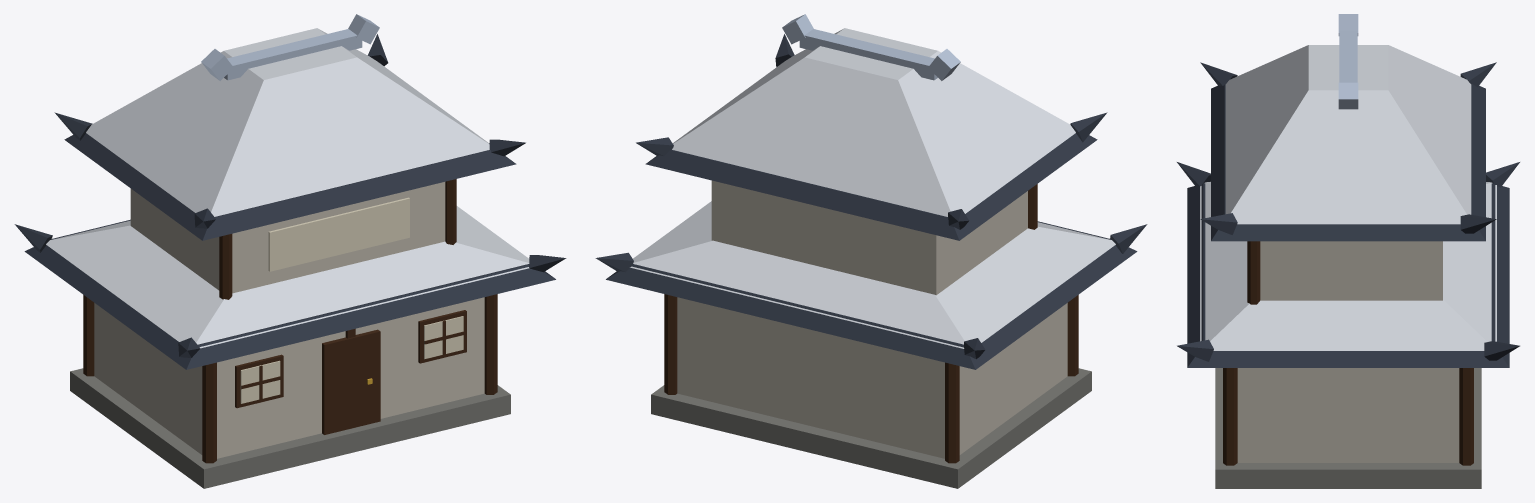
The model's file is SM_GZ_house_frost_1.fbx.
3 views of the same model, side by side, from view 1: azimuth 30°, elevation 25°; view 2: azimuth 150°, elevation 25°; view 3: azimuth 270°, elevation 25° (orthographic).
Parts seen in each view (by area): view 1: SM_GZ_house_frost_1; view 2: SM_GZ_house_frost_1; view 3: SM_GZ_house_frost_1.
Boxes of the visible parts, x1,y1,x2,y2 form: SM_GZ_house_frost_1: (14, 14, 566, 488); SM_GZ_house_frost_1: (595, 14, 1147, 488); SM_GZ_house_frost_1: (1177, 14, 1519, 488).
Size of the model in its own units: 1014 by 939 by 800.
